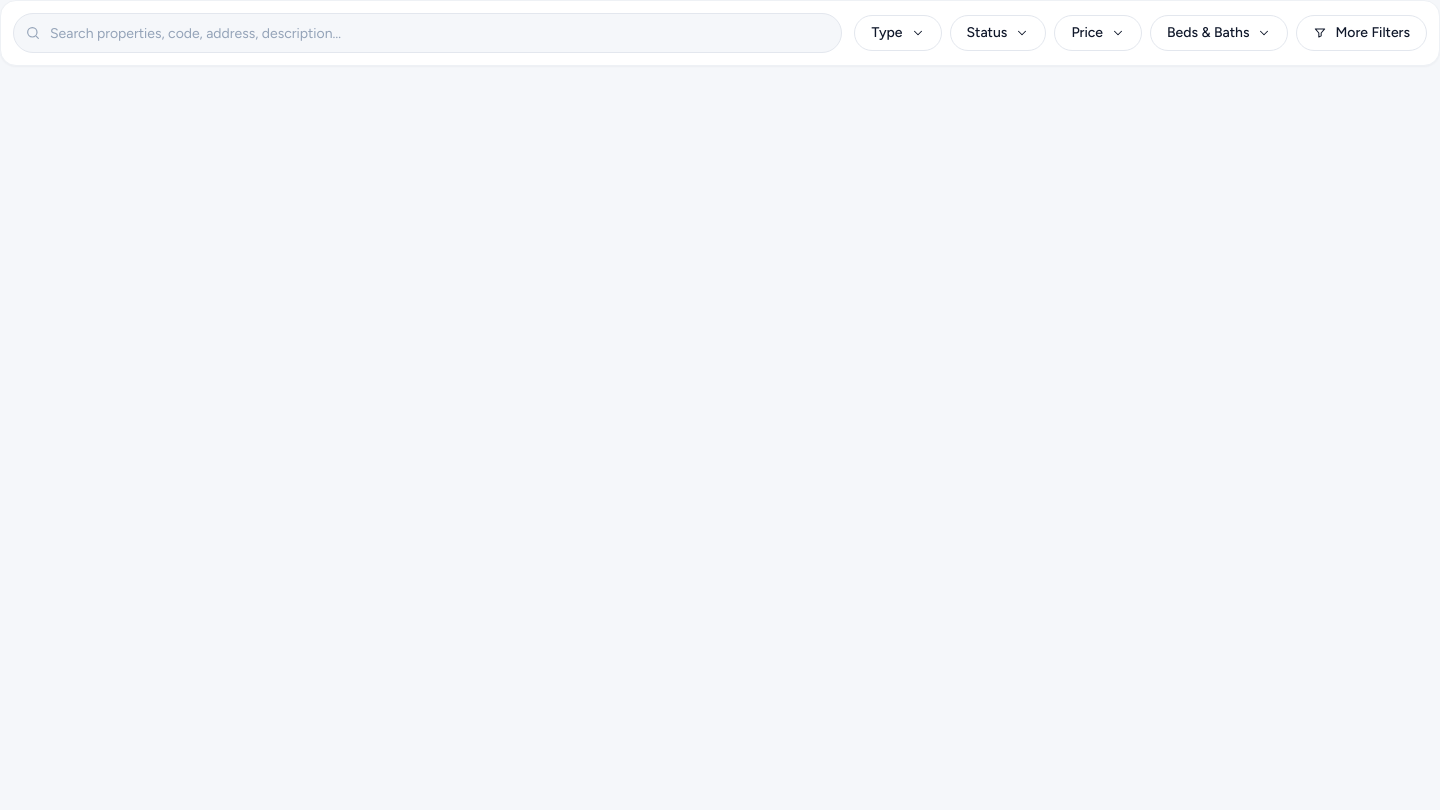
Test case: FilterControls › removes individual filter chips
The width and height of the screenshot is (1440, 810).
Click the button "Status" at (998, 33), box [950,15,1046,51]
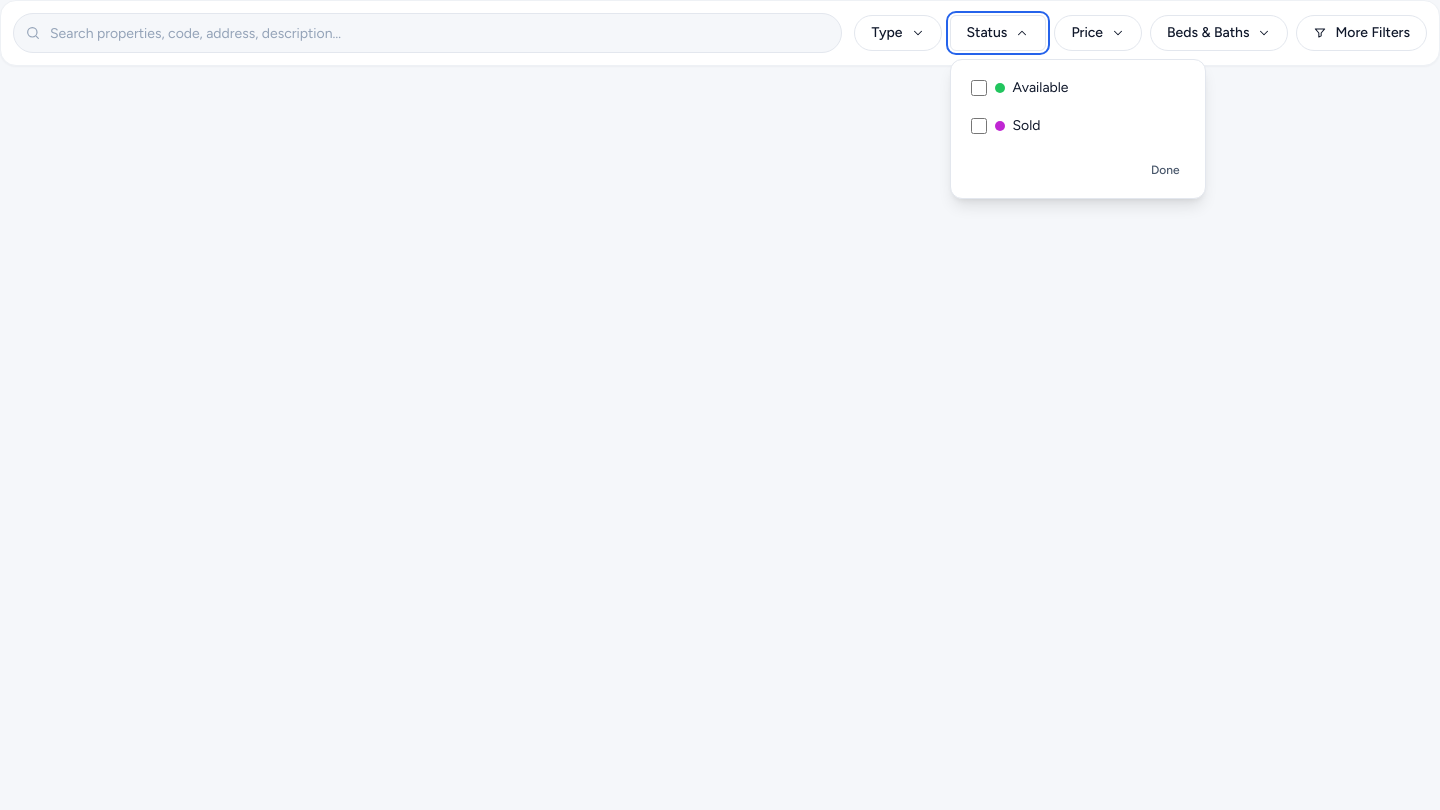
Click the checkbox labelled "Available" at (978, 88), box [970,80,986,96]
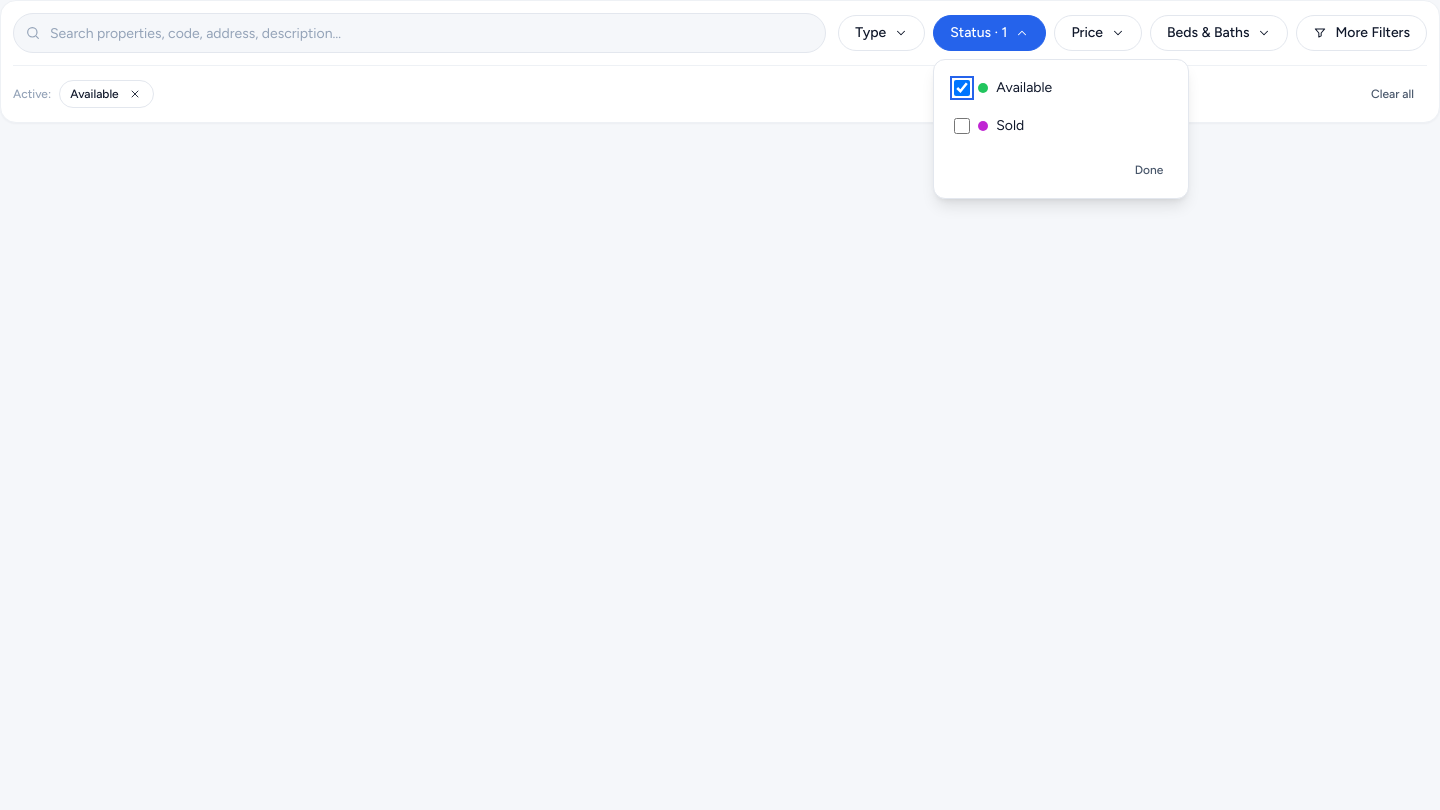
Now the button named "Remove Available" is shown
Note: Remove via chip × button
Click the button named "Remove Available" at (135, 94), box [127,86,143,102]
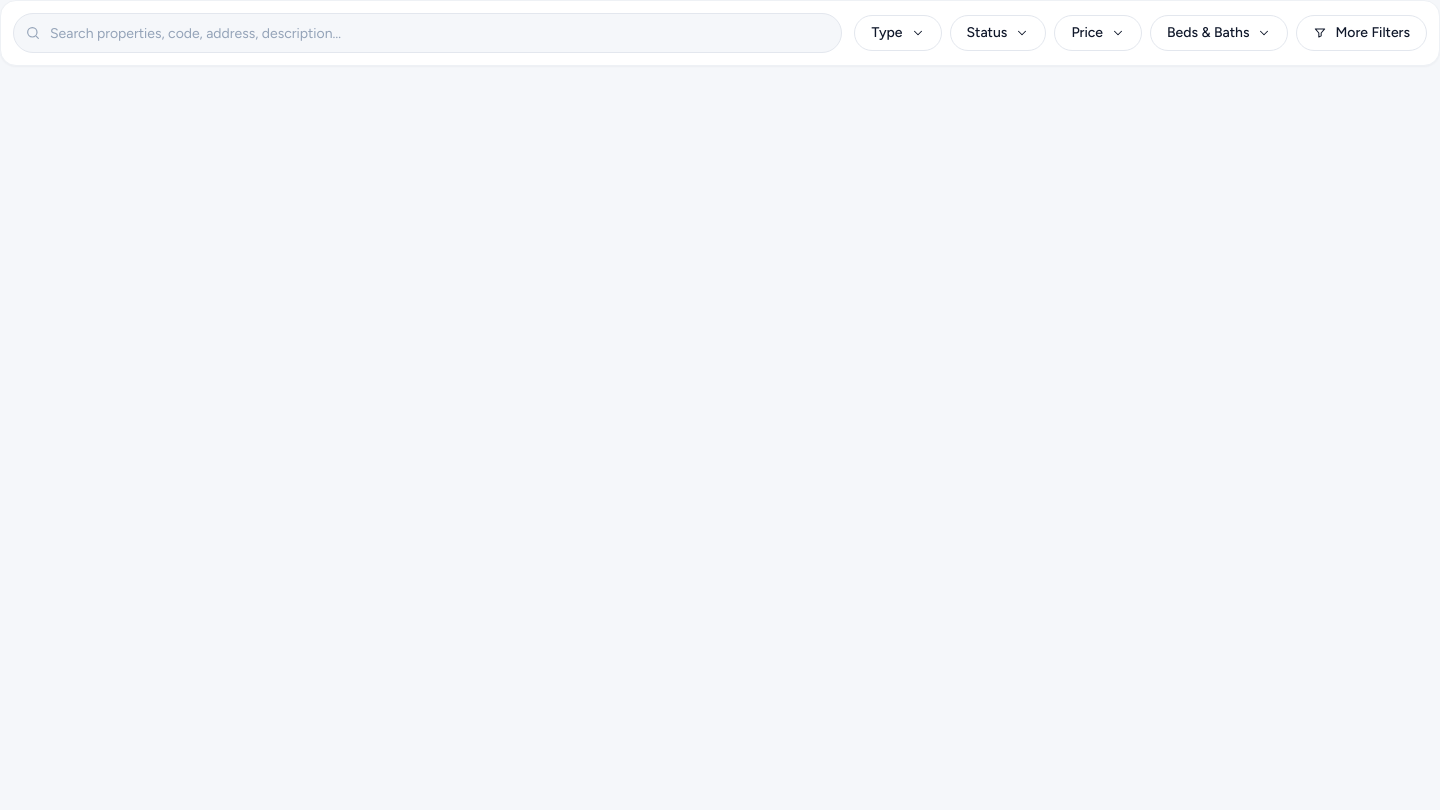
Now the button labelled "Remove Available" is gone
